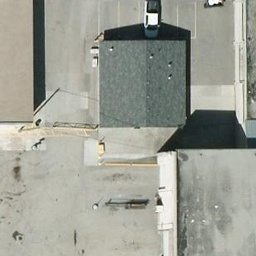car: (142, 1, 163, 34)
